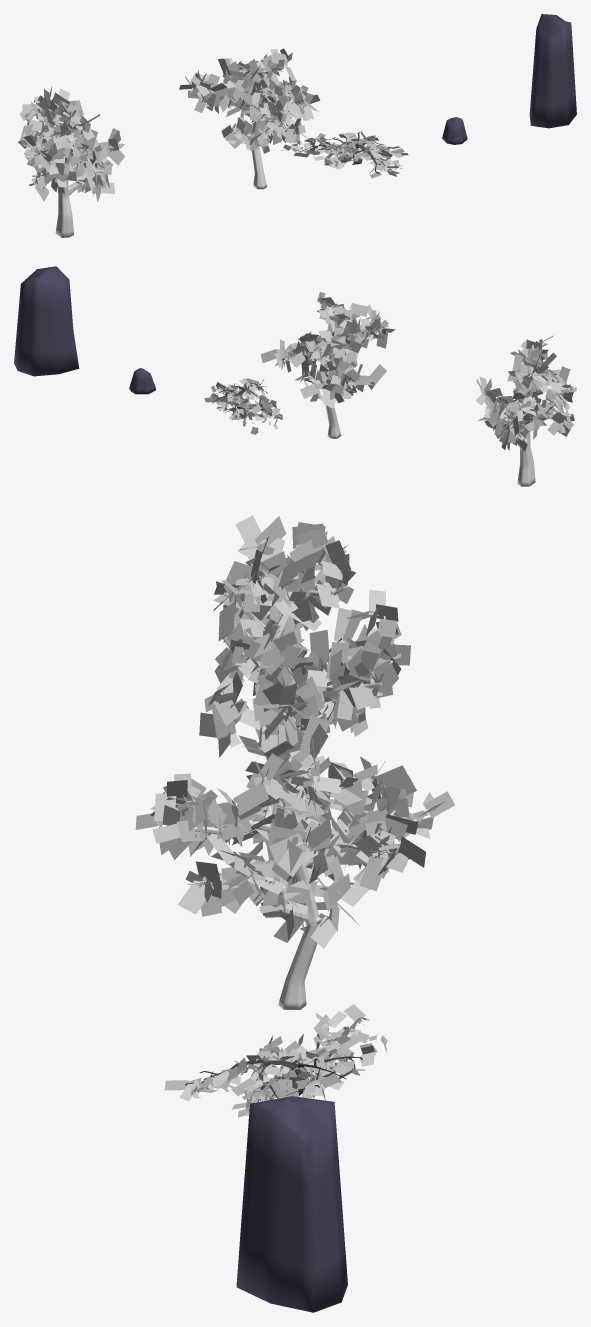
Rendered from Temporal Shift - Tutorial props (vers 1).fbx.
The picture shows the model from 3 angles, top to bottom: view 1: azimuth 30°, elevation 25°; view 2: azimuth 150°, elevation 25°; view 3: azimuth 270°, elevation 25°; orthographic projection. The views are drawn at different scales.
Visible parts, largest first — view 1: Sakura flowers.001, Sakura flowers.002, Huge rock, Bush leaves, tree 2, tree 1, Rock, Bush; view 2: Sakura flowers.001, Sakura flowers.002, Huge rock, Bush leaves, tree 2, tree 1, Rock, Bush; view 3: Sakura flowers.001, Sakura flowers.002, Huge rock, Bush leaves, tree 1, tree 2, Bush.
Part boxes in pixels (x1=…): Sakura flowers.001: x1=179, y1=48, x2=320, y2=153; Sakura flowers.002: x1=18, y1=86, x2=124, y2=202; Huge rock: x1=529, y1=14, x2=576, y2=128; Bush leaves: x1=280, y1=131, x2=408, y2=178; tree 2: x1=32, y1=108, x2=109, y2=237; tree 1: x1=192, y1=60, x2=307, y2=189; Rock: x1=442, y1=117, x2=467, y2=144; Bush: x1=311, y1=131, x2=385, y2=173; Sakura flowers.001: x1=260, y1=291, x2=395, y2=408; Sakura flowers.002: x1=475, y1=335, x2=576, y2=451; Huge rock: x1=14, y1=266, x2=79, y2=376; Bush leaves: x1=204, y1=378, x2=282, y2=434; tree 2: x1=483, y1=358, x2=571, y2=486; tree 1: x1=277, y1=301, x2=381, y2=438; Rock: x1=129, y1=368, x2=155, y2=394; Bush: x1=210, y1=383, x2=267, y2=417; Sakura flowers.001: x1=135, y1=716, x2=454, y2=948; Sakura flowers.002: x1=199, y1=515, x2=410, y2=759; Huge rock: x1=236, y1=1096, x2=347, y2=1312; Bush leaves: x1=164, y1=1004, x2=387, y2=1117; tree 1: x1=164, y1=747, x2=428, y2=1009; tree 2: x1=213, y1=545, x2=392, y2=777; Bush: x1=199, y1=1034, x2=362, y2=1101.
Bounding box in the file's own units: 5717 × 1442 × 1442.
